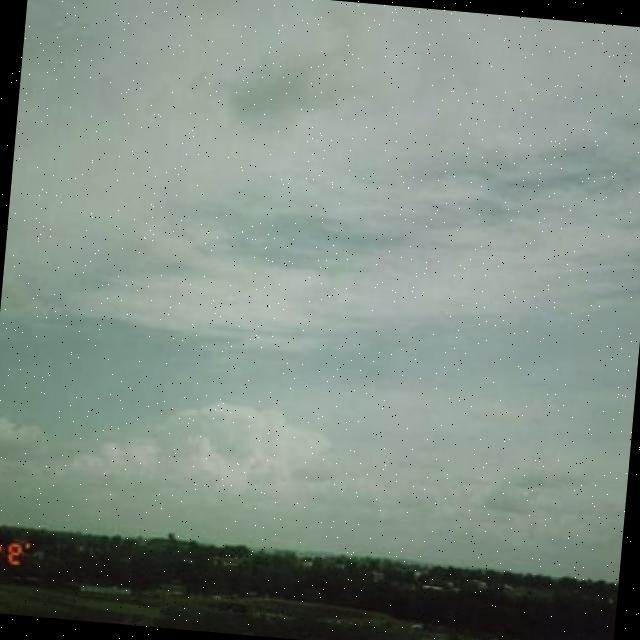Cs: (1, 5, 640, 516)
